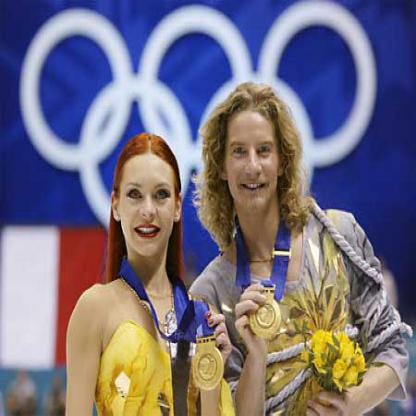face: (225, 93, 282, 218), (120, 141, 178, 259)
